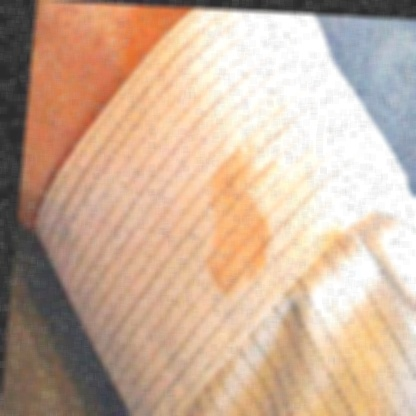kimchi: (198, 144, 292, 299)
